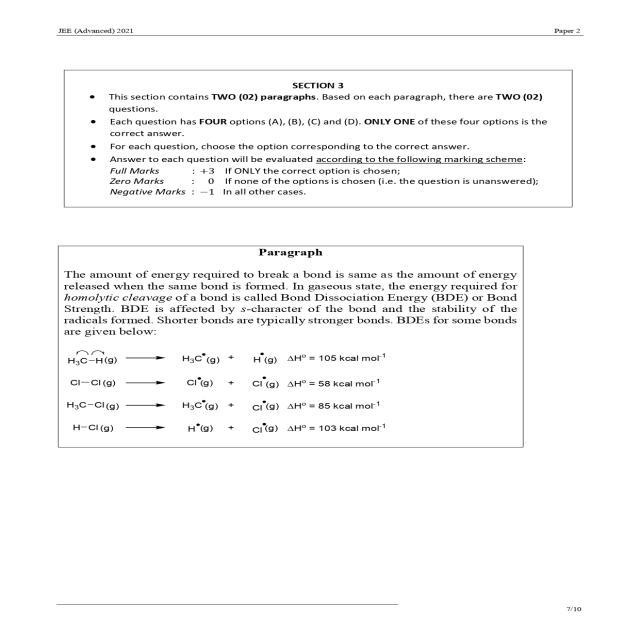Description: (25, 232, 615, 458)
Instruction: (25, 51, 615, 211)
Question_Paper_Area: (25, 51, 615, 547)
